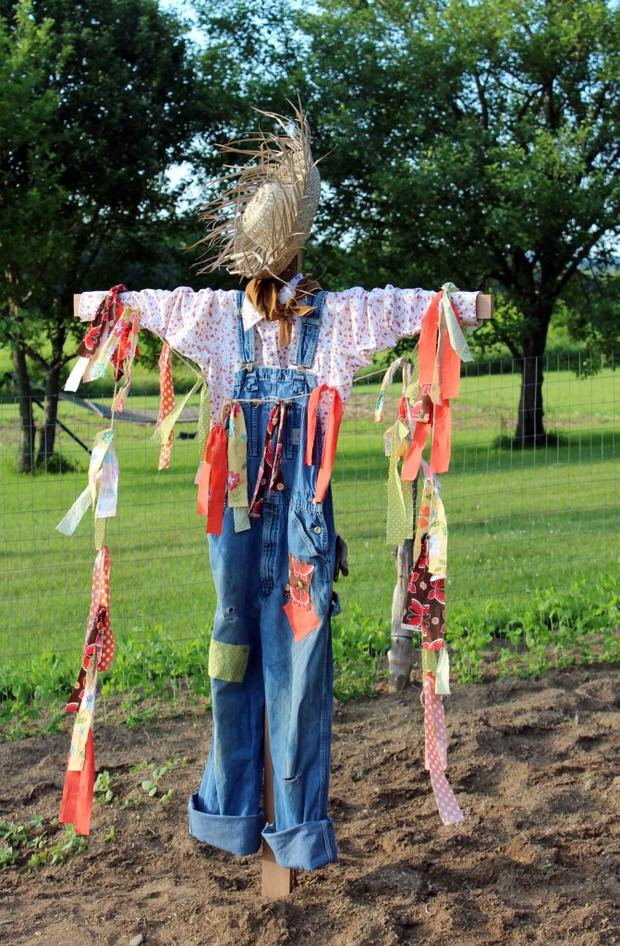person-like: (61, 132, 482, 886)
